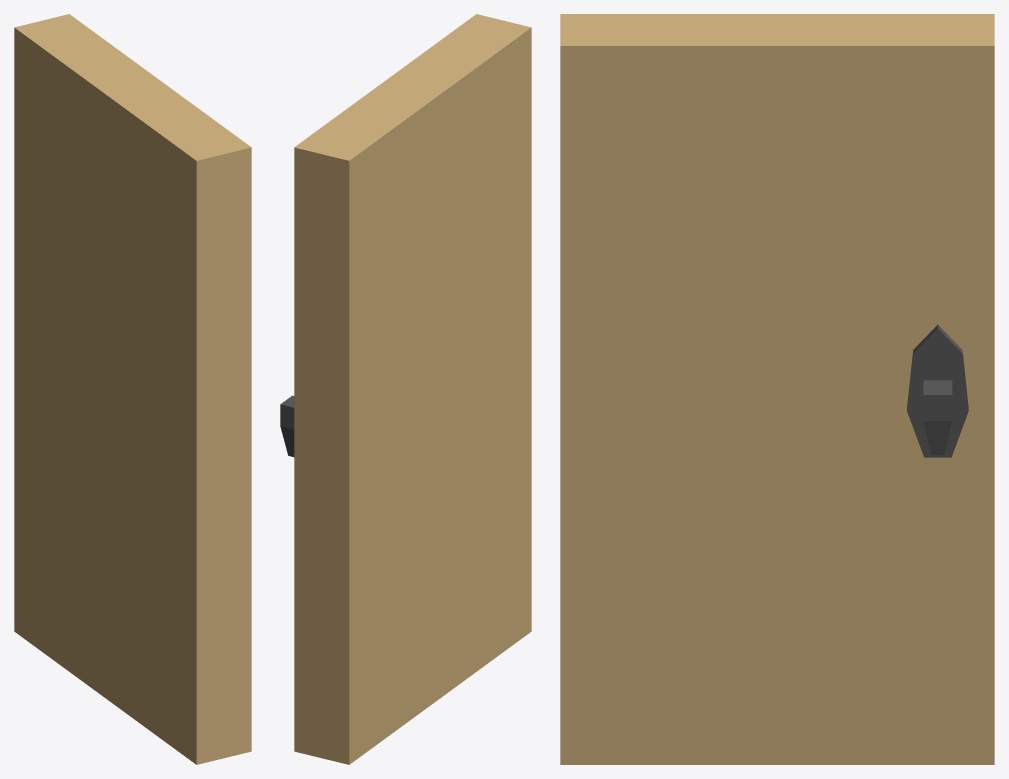
File: OPENDOOR.fbx
The picture shows the model from 3 angles, left to right: view 1: azimuth 30°, elevation 25°; view 2: azimuth 150°, elevation 25°; view 3: azimuth 270°, elevation 25°; orthographic projection. The views are drawn at different scales.
Visible parts, largest first — view 1: Cube.270; view 2: Cube.270; view 3: Cube.270.
Part boxes in pixels (x1,y1,x2,y2): Cube.270: (14,14,251,764); Cube.270: (280,14,531,764); Cube.270: (560,14,994,764).
Size of the model in its own units: 103 by 685 by 375.
